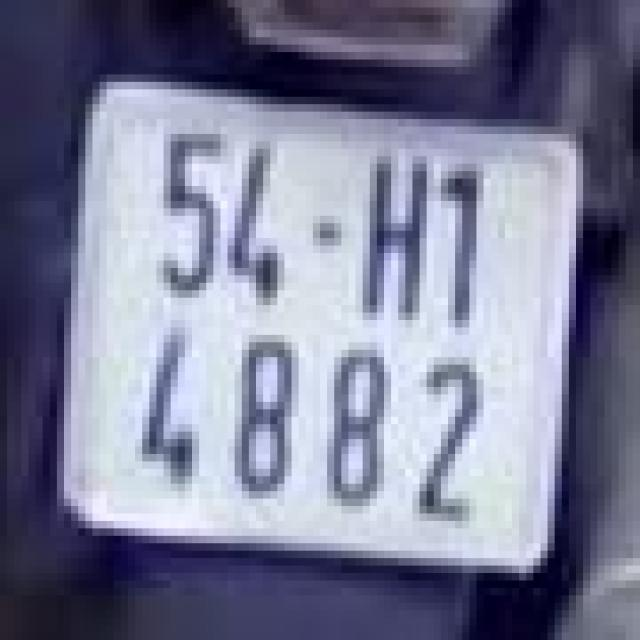1: (420, 145, 498, 346)
2: (409, 350, 494, 543)
4: (125, 324, 202, 502), (228, 123, 284, 316)
5: (150, 112, 228, 320)
8: (320, 331, 405, 517), (228, 331, 306, 502)
H: (348, 145, 434, 331)
